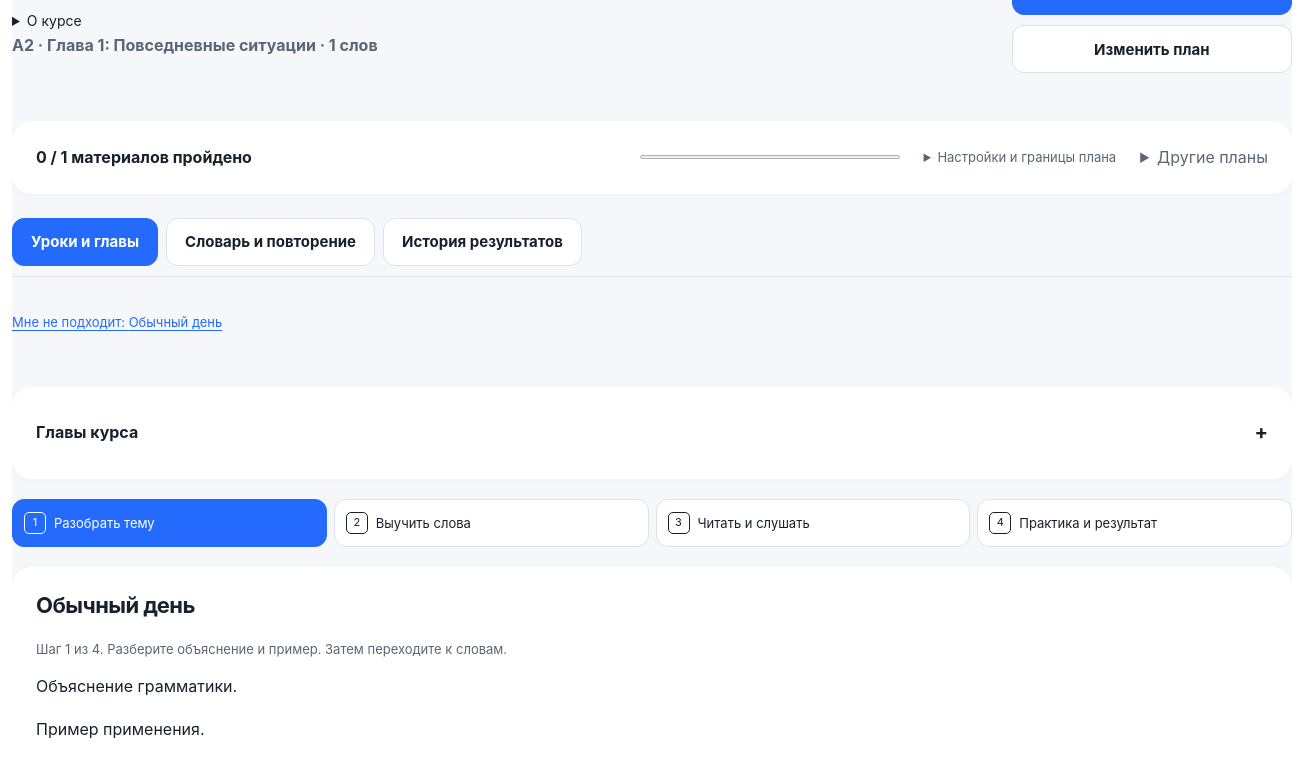
Test case: lesson help opens a staged hint and keeps free text private by default
Step 1. Click the button "4 Практика и результат" → (1135, 523), box [977, 499, 1292, 547]
(page scrolled)
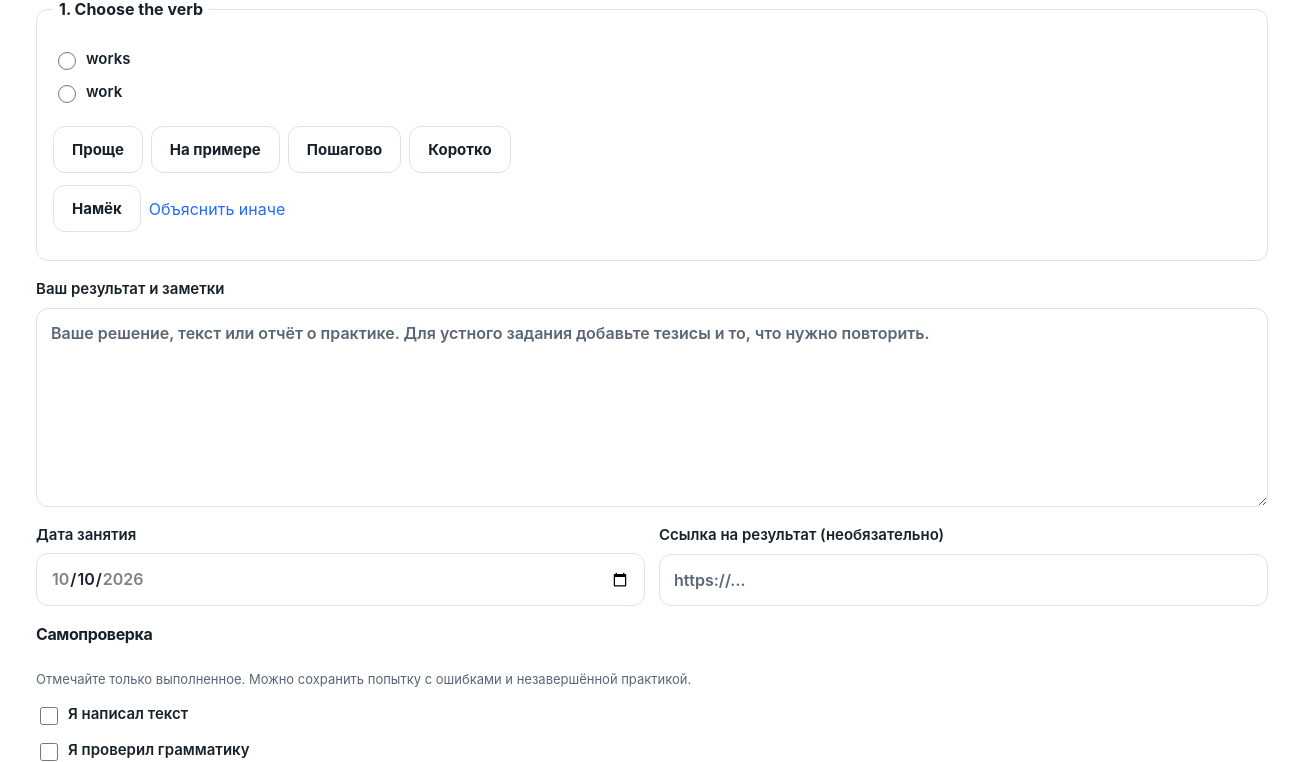
Step 2. Replace the text in the text box labelled "Ваш результат и заметки" with "Мой личный текст решения для проверки." → (652, 407), box [36, 308, 1268, 507]
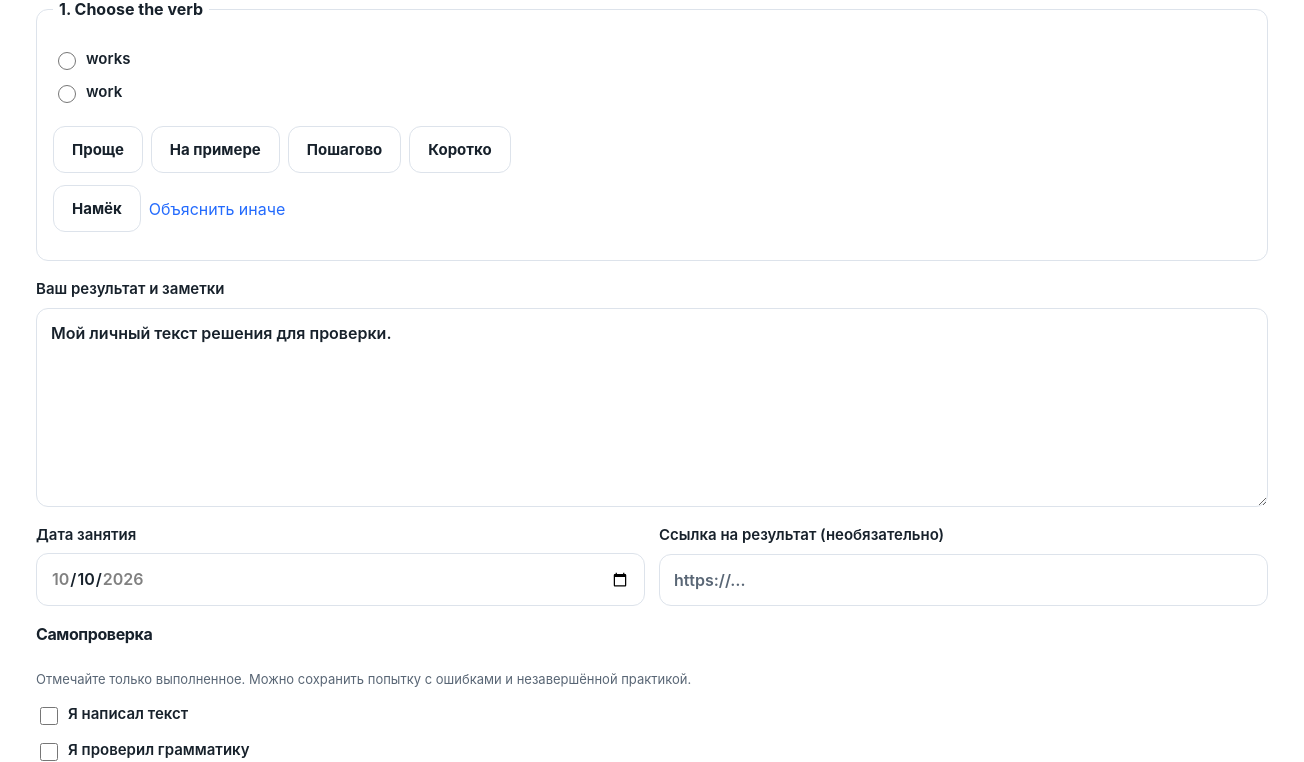
Step 3. Click the button "Намёк" → (97, 209), box [53, 185, 141, 232]
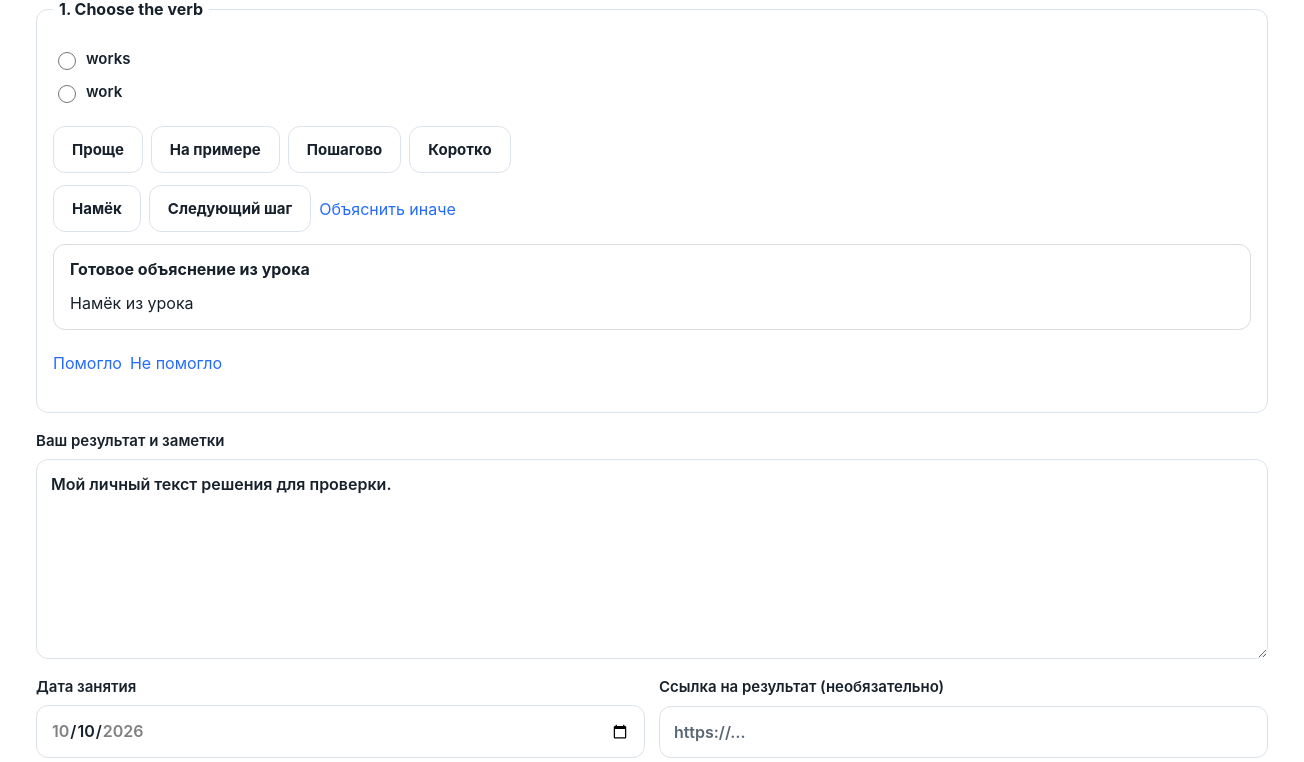
Expected: the text "Намёк из урока" is shown, [70, 293, 194, 313]
Expected: the text "Готовое объяснение из урока" is shown, [70, 259, 310, 279]
Step 4. Click the button "Следующий шаг" → (230, 209), box [149, 185, 311, 232]
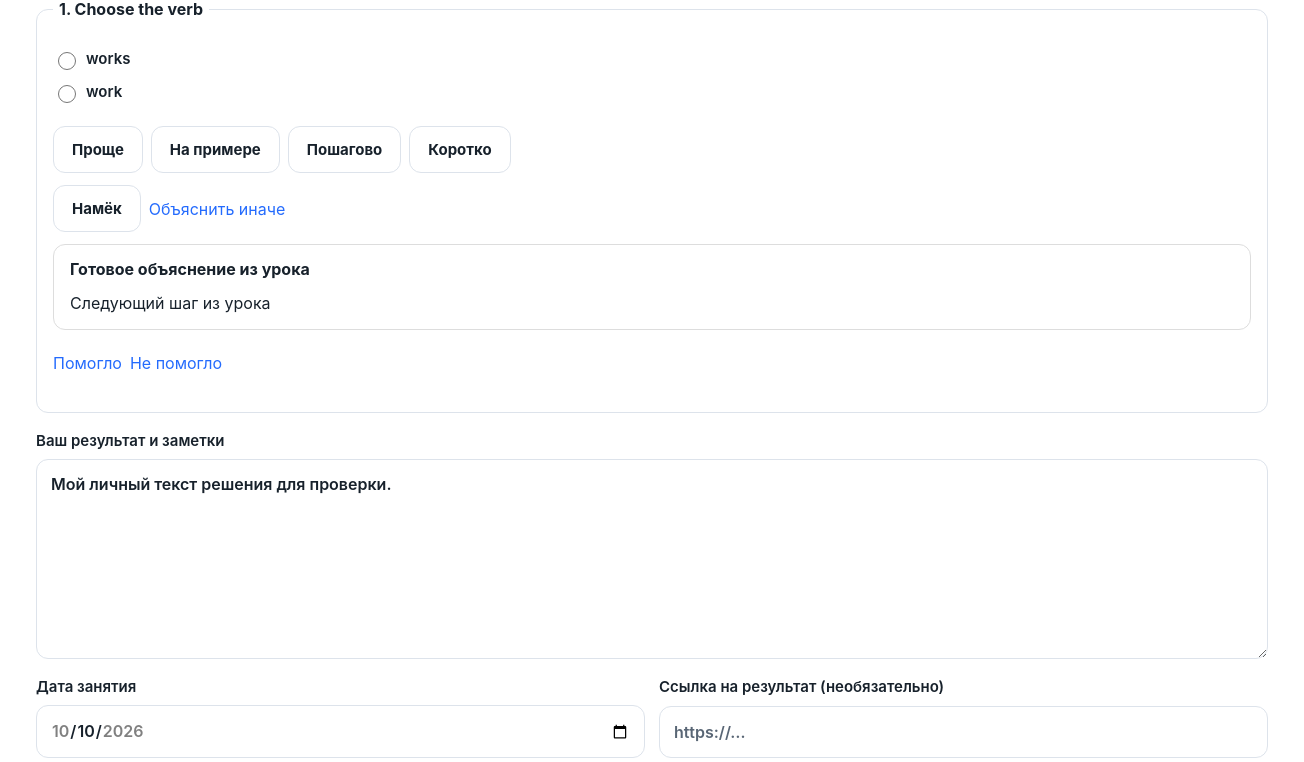
Expected: the text "Следующий шаг из урока" is shown, [70, 293, 270, 313]
Step 5. Click the button "Помогло" → (87, 363), box [53, 342, 122, 384]
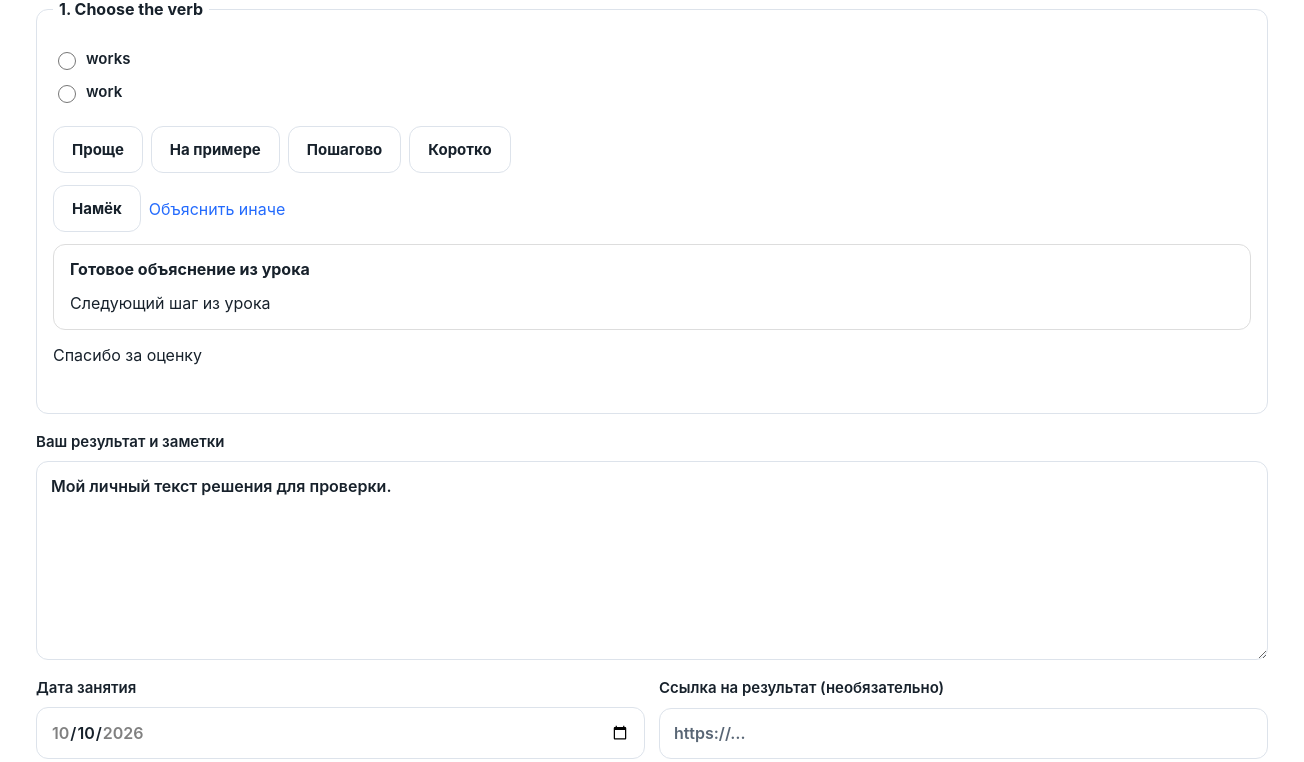
Expected: the text "Спасибо за оценку" is shown, [53, 345, 202, 365]
